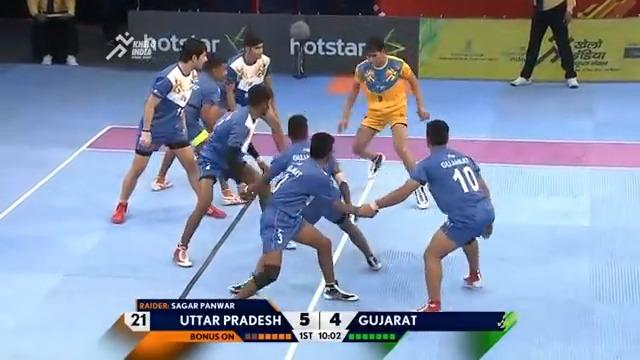Player: (350, 117, 498, 312), (227, 128, 374, 304), (110, 37, 225, 224), (171, 83, 286, 268), (228, 36, 271, 70)
Raider: (336, 36, 432, 210)
referee: (509, 0, 580, 88), (26, 0, 80, 66)
